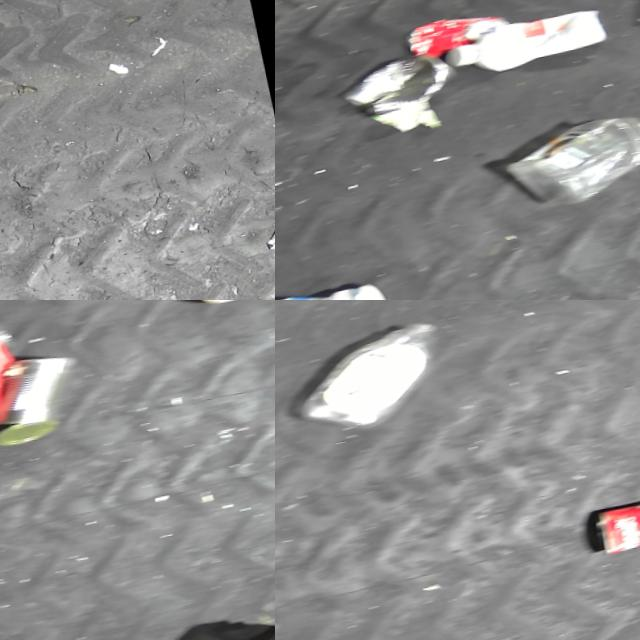can: (335, 47, 464, 141), (0, 356, 84, 454), (383, 7, 516, 66), (575, 493, 640, 566)
